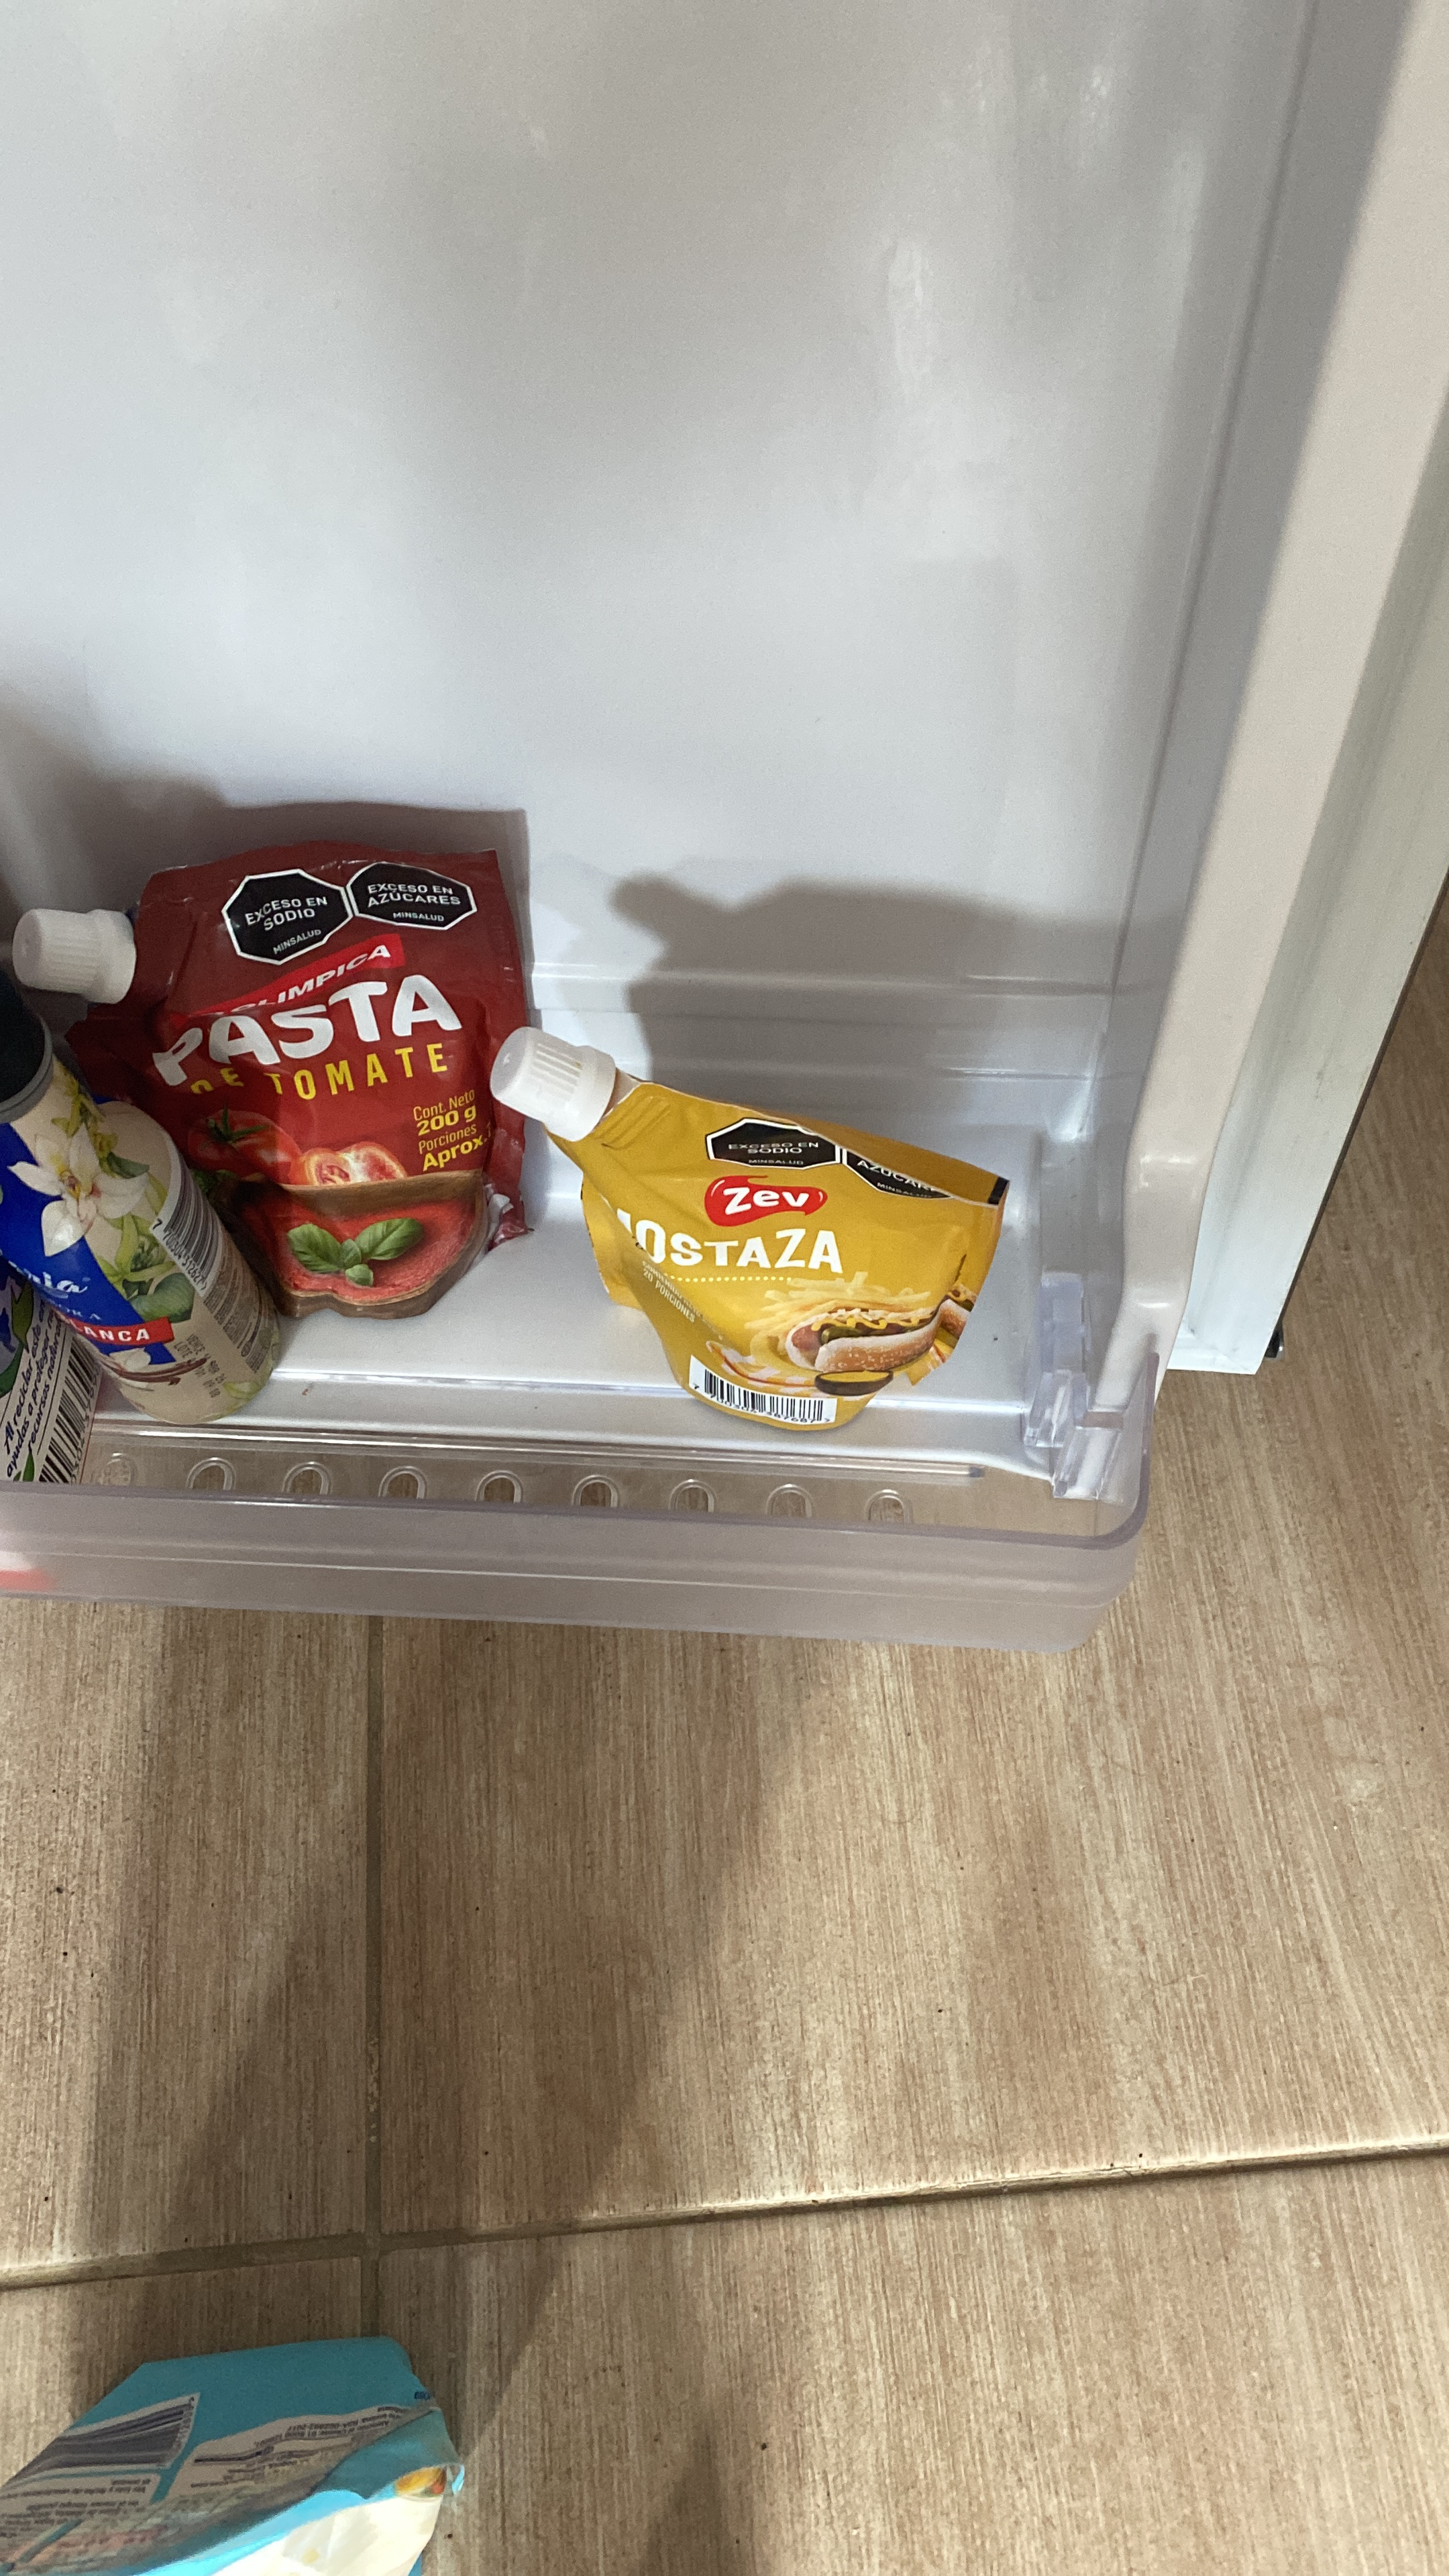Mostaza: (487, 1023, 1016, 1433)
